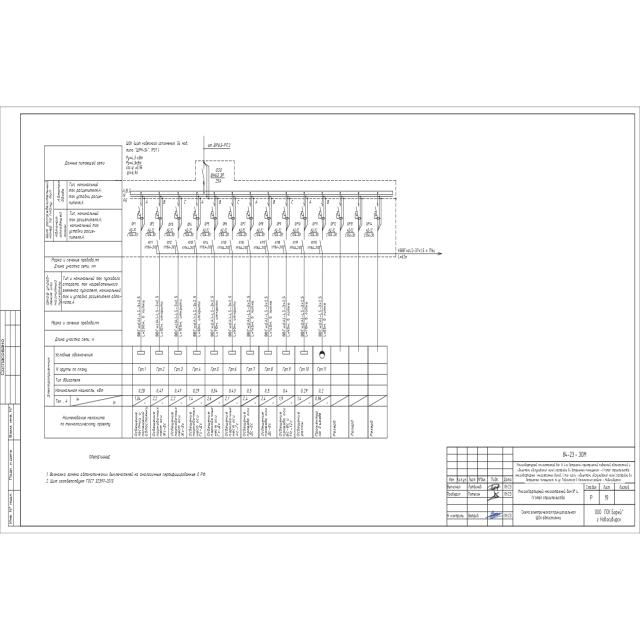-: (126, 140, 189, 154), (210, 172, 226, 184), (126, 227, 139, 237), (162, 227, 175, 237), (289, 228, 302, 238), (343, 228, 356, 238), (362, 228, 376, 237), (144, 228, 158, 237), (326, 228, 338, 238), (236, 227, 248, 237), (253, 228, 266, 237), (182, 228, 195, 237), (307, 228, 320, 237), (200, 228, 213, 237), (218, 228, 230, 237), (272, 228, 284, 237), (163, 244, 176, 250), (144, 244, 157, 250), (182, 244, 194, 250), (306, 245, 320, 250), (253, 245, 266, 250), (235, 245, 248, 250), (199, 244, 212, 249), (271, 245, 284, 250), (217, 245, 230, 250), (289, 246, 302, 250)
KM: (156, 237, 160, 252), (248, 238, 252, 253), (320, 238, 324, 253), (211, 237, 215, 252), (283, 238, 287, 253), (266, 238, 270, 252), (176, 238, 180, 252), (301, 238, 305, 252), (194, 238, 198, 252), (230, 238, 233, 252)
QFD: (374, 202, 382, 220), (354, 203, 362, 221), (336, 202, 344, 220), (318, 202, 326, 220), (282, 202, 290, 220), (263, 202, 271, 220), (300, 202, 308, 220), (137, 202, 145, 220), (155, 202, 163, 220), (174, 202, 182, 220), (192, 202, 200, 220), (210, 202, 218, 220), (228, 202, 235, 220), (246, 202, 253, 220)
QS: (201, 166, 205, 180)
